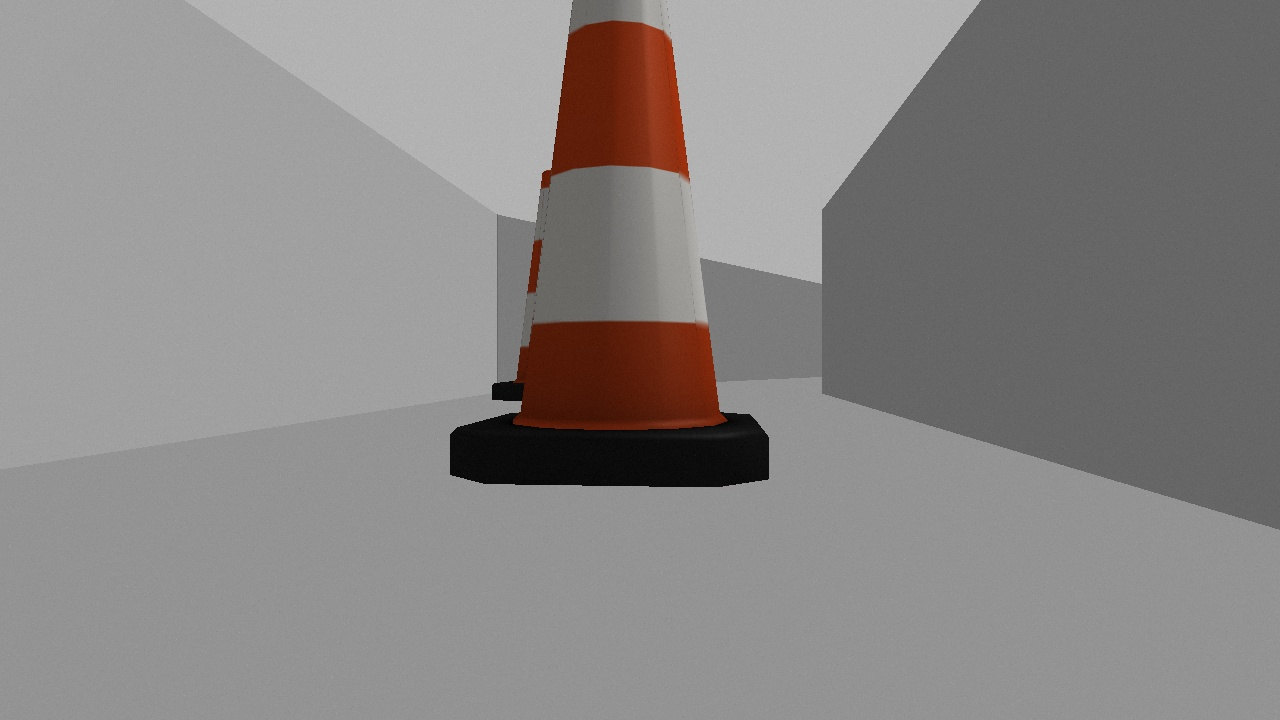barricade: (451, 1, 769, 488)
